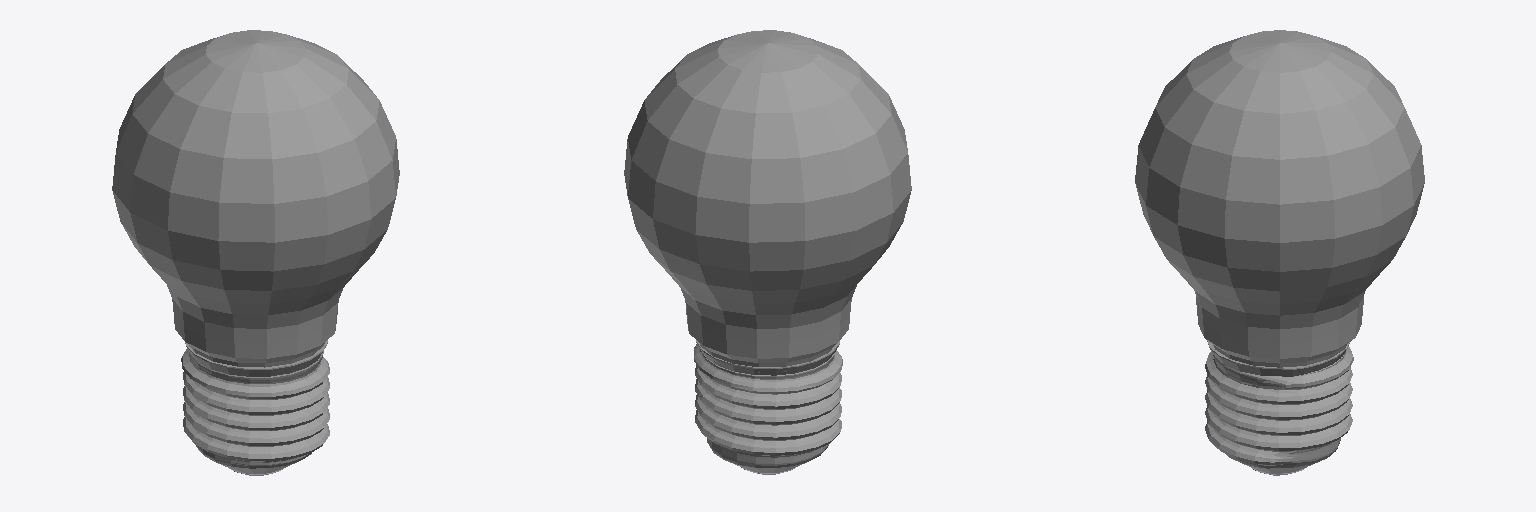
Rendered from BlockBulb.obj.
The picture shows the model from 3 angles: view 1: azimuth 30°, elevation 25°; view 2: azimuth 150°, elevation 25°; view 3: azimuth 270°, elevation 25°; orthographic projection.
Parts seen in each view (by area): view 1: BlockBulb; view 2: BlockBulb; view 3: BlockBulb.
Boxes of the visible parts, x1,y1,x2,y2 form: BlockBulb: [112, 30, 399, 475]; BlockBulb: [624, 30, 911, 474]; BlockBulb: [1135, 30, 1424, 475].
Bounding box in the file's own units: 1.69 × 2.73 × 1.69.